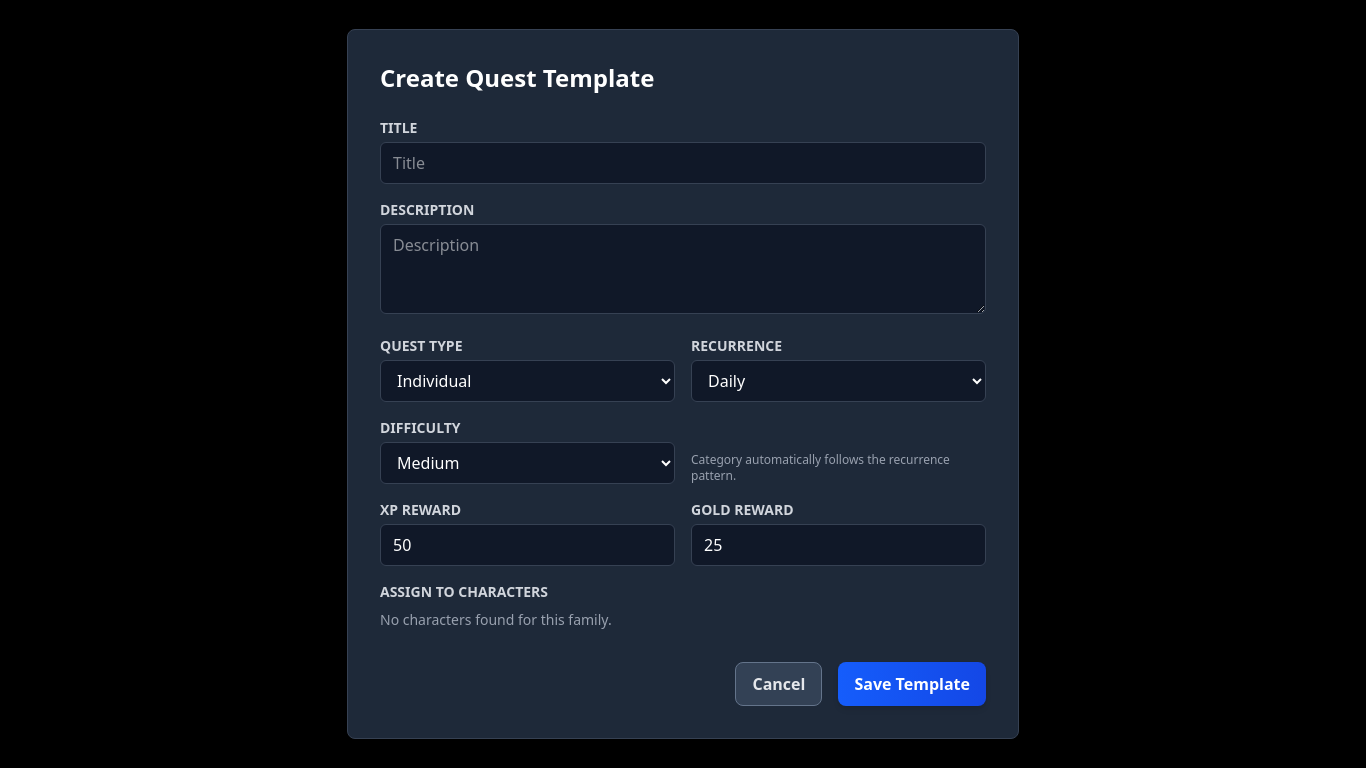
Test case: TemplateForm › hides character selection for family quests
Select "Family" in the dropdown labelled "Quest Type" at [528, 381], box [380,360,675,402]
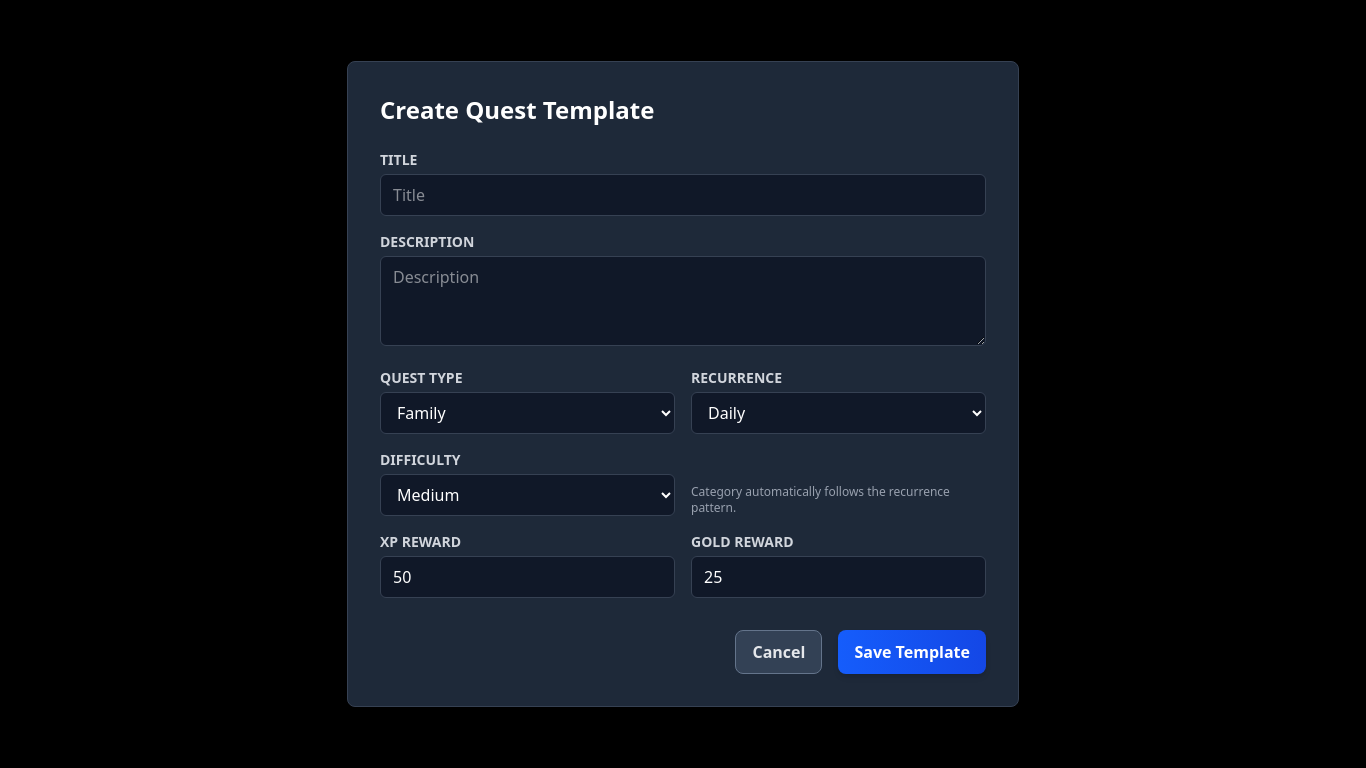
Expected: the text "Assign to Characters" is gone
